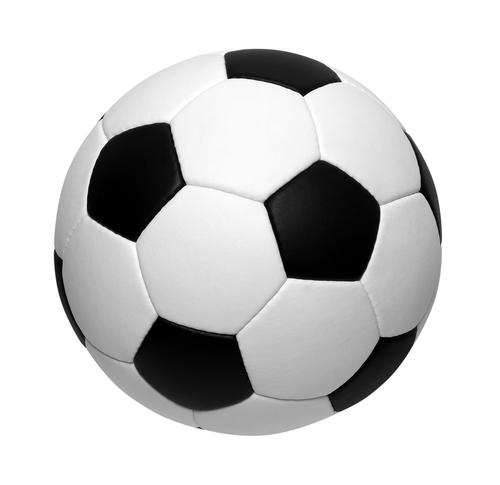football: (38, 42, 448, 441)
